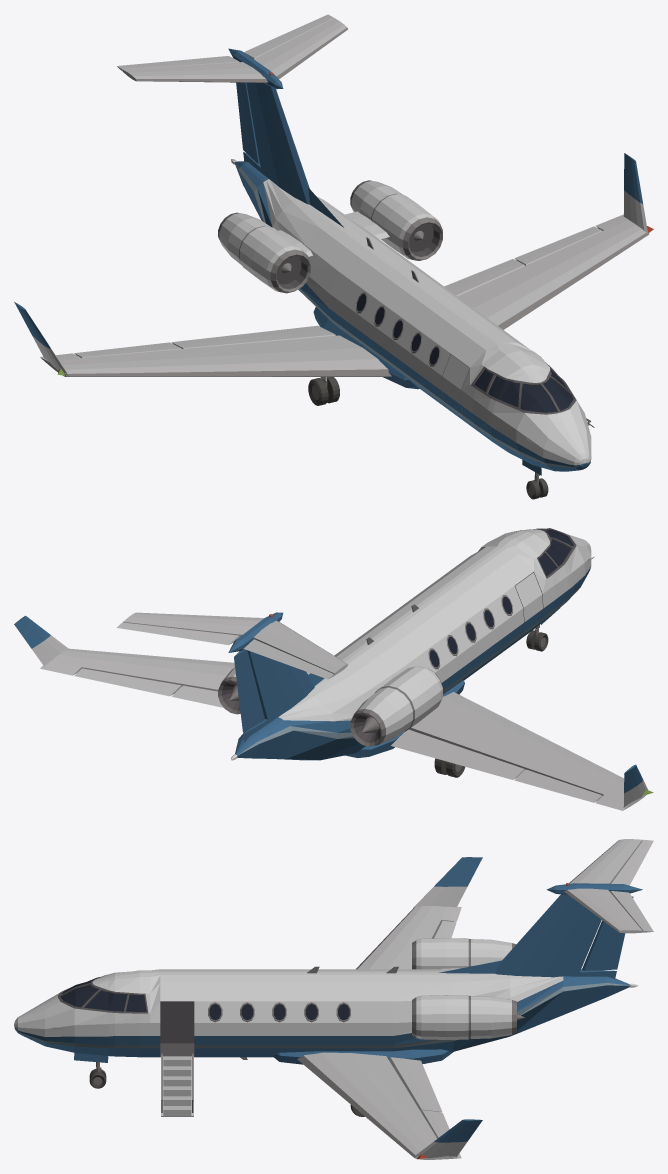
The model's file is business-jet-684611.glb.
The picture shows the model from 3 angles, top to bottom: view 1: azimuth 30°, elevation 25°; view 2: azimuth 150°, elevation 25°; view 3: azimuth 270°, elevation 25°; orthographic projection. The views are drawn at different scales.
Parts seen in each view (by area): view 1: business-jet, flap-r, rudder, flap-l, aileron-l, elevator-l, wheel-r, aileron-r, elevator-r; view 2: business-jet, flap-r, rudder, aileron-l, elevator-l, aileron-r, elevator-r, flap-l; view 3: business-jet, airstair, flap-l, rudder, elevator-r, elevator-l, aileron-l.
Boxes of the visible parts, x1,y1,x2,y2 form: business-jet: (14, 18, 653, 471); flap-r: (171, 325, 335, 348); rudder: (236, 82, 259, 164); flap-l: (444, 259, 524, 296); aileron-l: (514, 226, 601, 265); elevator-l: (244, 14, 333, 58); wheel-r: (308, 377, 339, 405); aileron-r: (74, 342, 181, 357); elevator-r: (117, 56, 239, 71); business-jet: (14, 528, 653, 810); flap-r: (391, 729, 524, 779); rudder: (234, 649, 264, 732); aileron-l: (74, 668, 181, 696); elevator-l: (116, 622, 239, 645); aileron-r: (514, 769, 602, 802); elevator-r: (244, 639, 334, 679); flap-l: (171, 685, 223, 707); business-jet: (14, 839, 642, 1159); airstair: (161, 1053, 193, 1116); flap-l: (388, 1057, 442, 1112); rudder: (582, 896, 633, 970); elevator-r: (611, 839, 653, 885); elevator-l: (610, 891, 653, 932); aileron-l: (421, 1110, 449, 1138).
Bounding box in the file's own units: 16.48 × 5.93 × 16.92.
